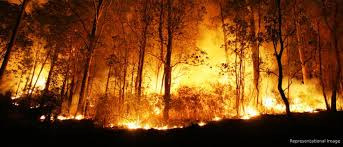fire: (81, 67, 339, 135), (160, 31, 287, 111), (11, 63, 63, 97)
